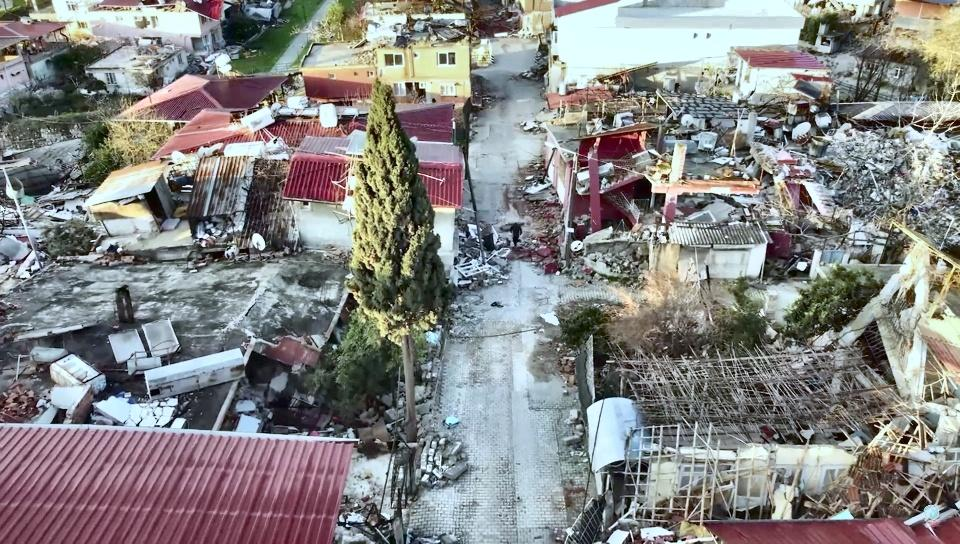kapali: (448, 145, 565, 337)
